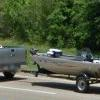Boat: (30, 42, 97, 80)
